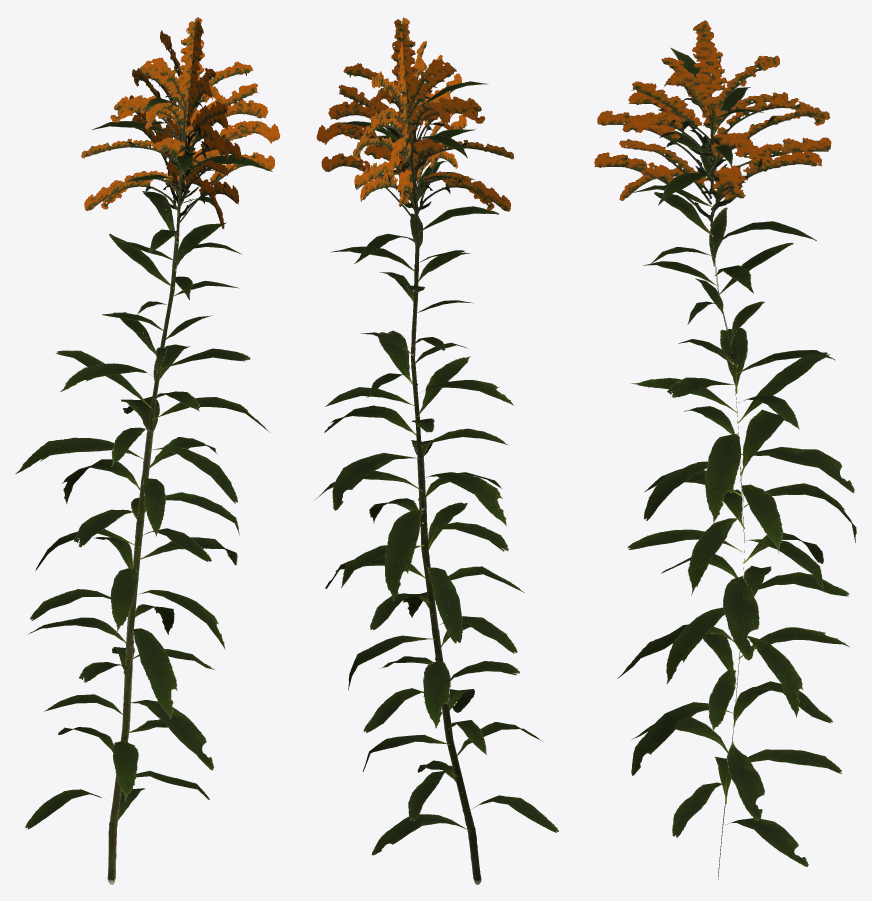
The model's file is GoldenRodFlowerHighDetail.fbx.
3 views of the same model, side by side, from view 1: azimuth 30°, elevation 25°; view 2: azimuth 150°, elevation 25°; view 3: azimuth 270°, elevation 25° (orthographic). The views are drawn at different scales.
Parts seen in each view (by area): view 1: High; view 2: High; view 3: High.
Boxes of the visible parts, x1,y1,x2,y2 form: High: [15, 17, 280, 884]; High: [314, 17, 558, 884]; High: [594, 20, 856, 879].
Size of the model in its own units: 54.09 by 174 by 46.63.
